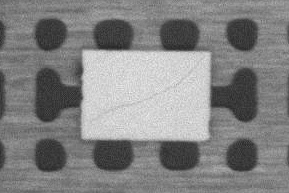DIE_CRACK: (101, 56, 203, 115)
